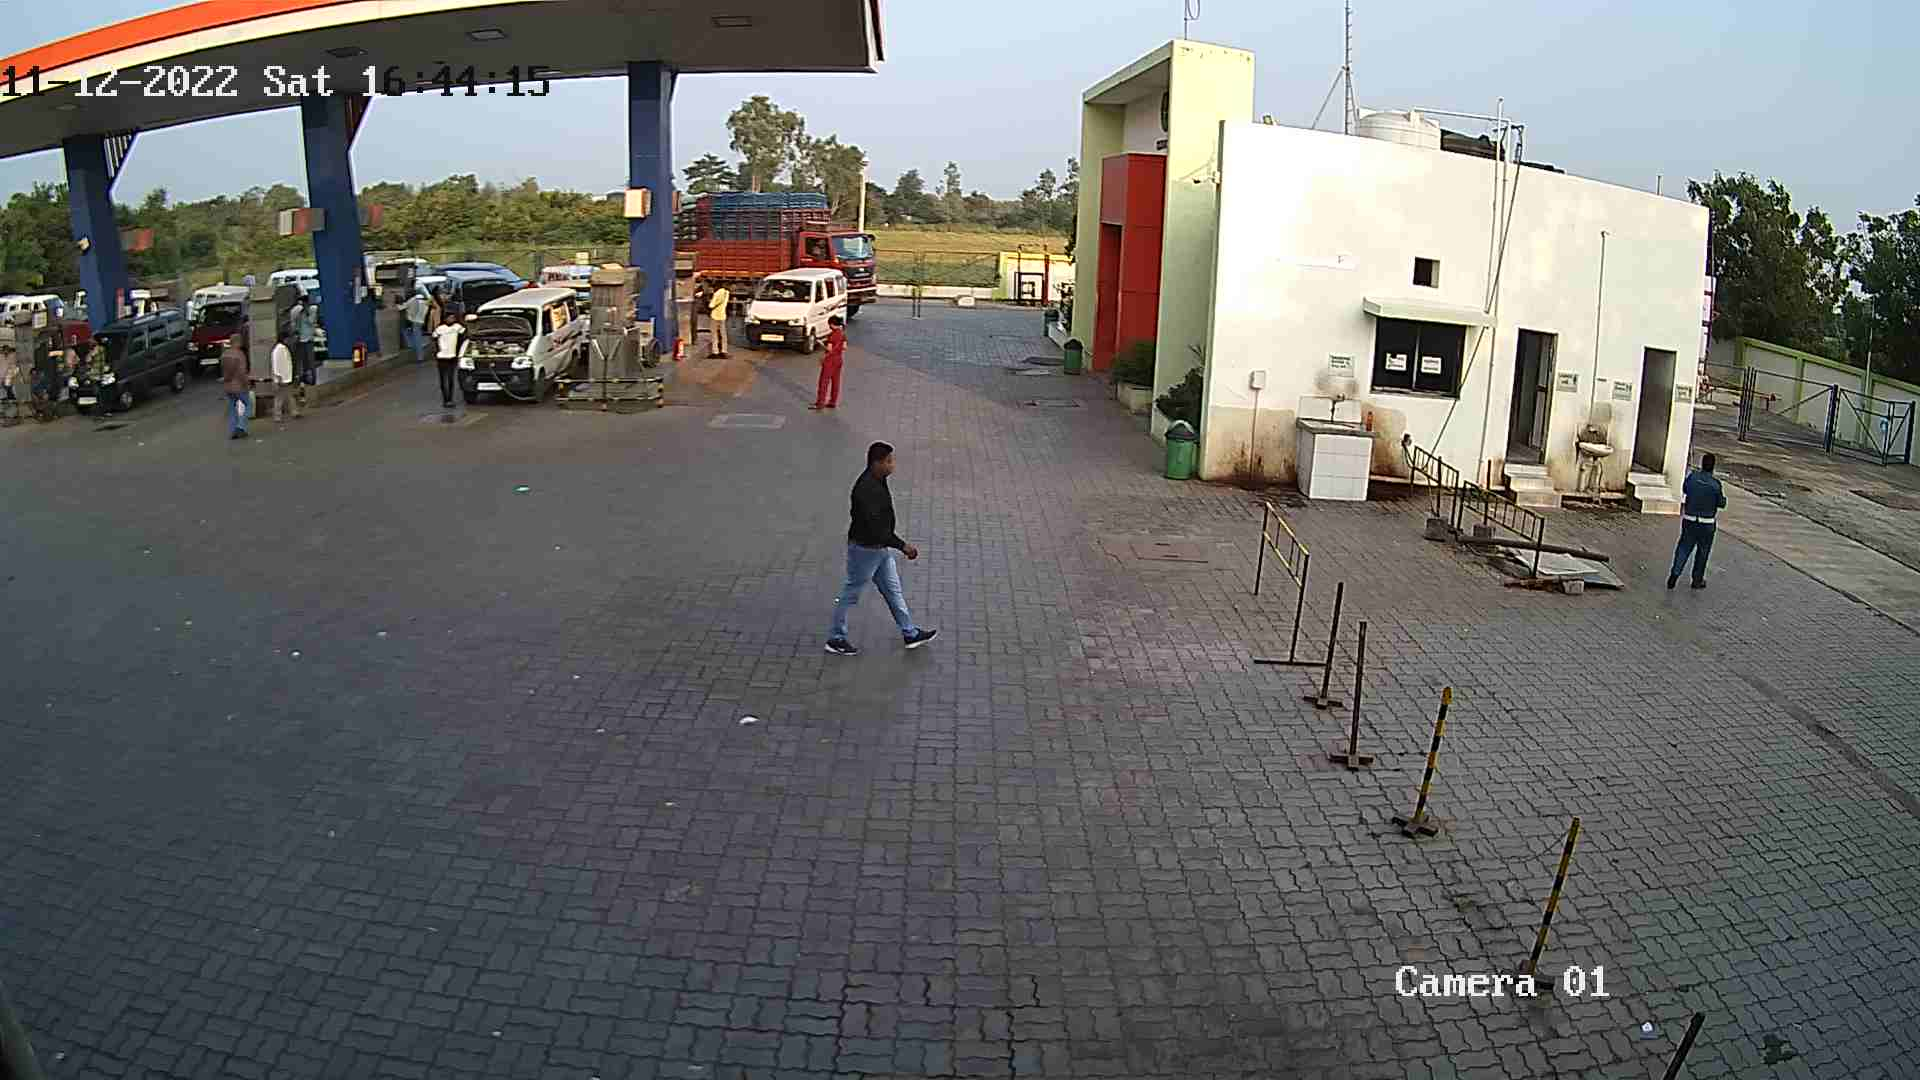Car: (443, 281, 596, 407), (57, 301, 196, 419), (402, 252, 524, 356), (737, 260, 855, 360), (179, 278, 255, 384), (258, 266, 338, 365), (530, 257, 603, 361), (1, 286, 65, 360), (36, 299, 94, 360)
HMV: (670, 182, 886, 320)
